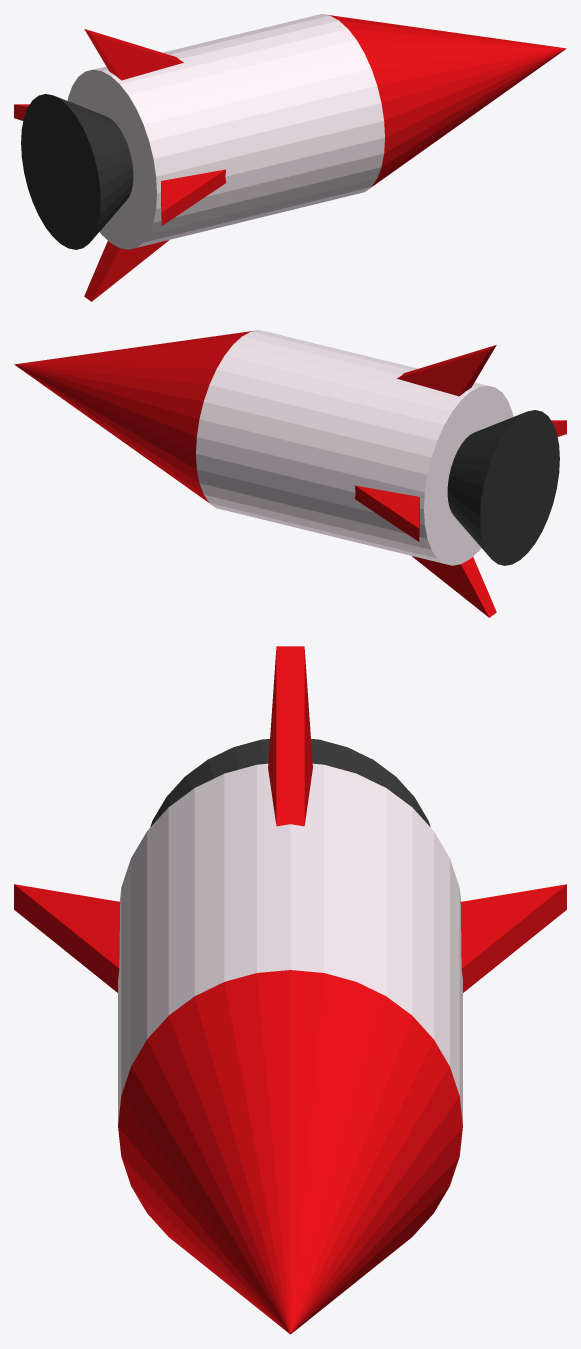
The model's file is Rocket.fbx.
3 views of the same model, one above another, from view 1: azimuth 30°, elevation 25°; view 2: azimuth 150°, elevation 25°; view 3: azimuth 270°, elevation 25° (orthographic). The views are drawn at different scales.
Visible parts, largest first — view 1: Cone; view 2: Cone; view 3: Cone.
Boxes of the visible parts, x1,y1,x2,y2 form: Cone: (14, 14, 566, 301); Cone: (14, 330, 566, 617); Cone: (14, 646, 566, 1334).
Size of the model in its own units: 444 by 224 by 224.
